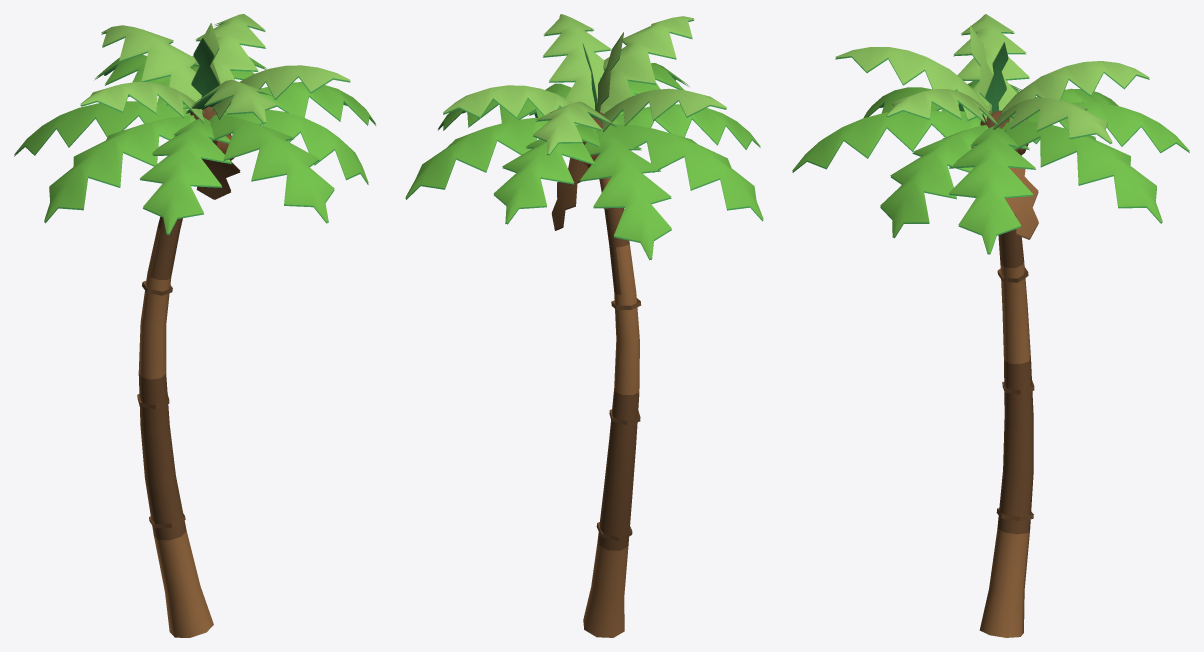
The model's file is Palmera2.fbx.
The picture shows the model from 3 angles, left to right: view 1: azimuth 30°, elevation 25°; view 2: azimuth 150°, elevation 25°; view 3: azimuth 270°, elevation 25°; orthographic projection. The views are drawn at different scales.
Visible parts, largest first — view 1: Palmera2; view 2: Palmera2; view 3: Palmera2.
Boxes of the visible parts, x1,y1,x2,y2 form: Palmera2: (14,14,375,637); Palmera2: (405,14,763,637); Palmera2: (792,14,1189,637).
Size of the model in its own units: 11.58 by 20.14 by 11.92.
Materials: 1 (1 with a texture image).
